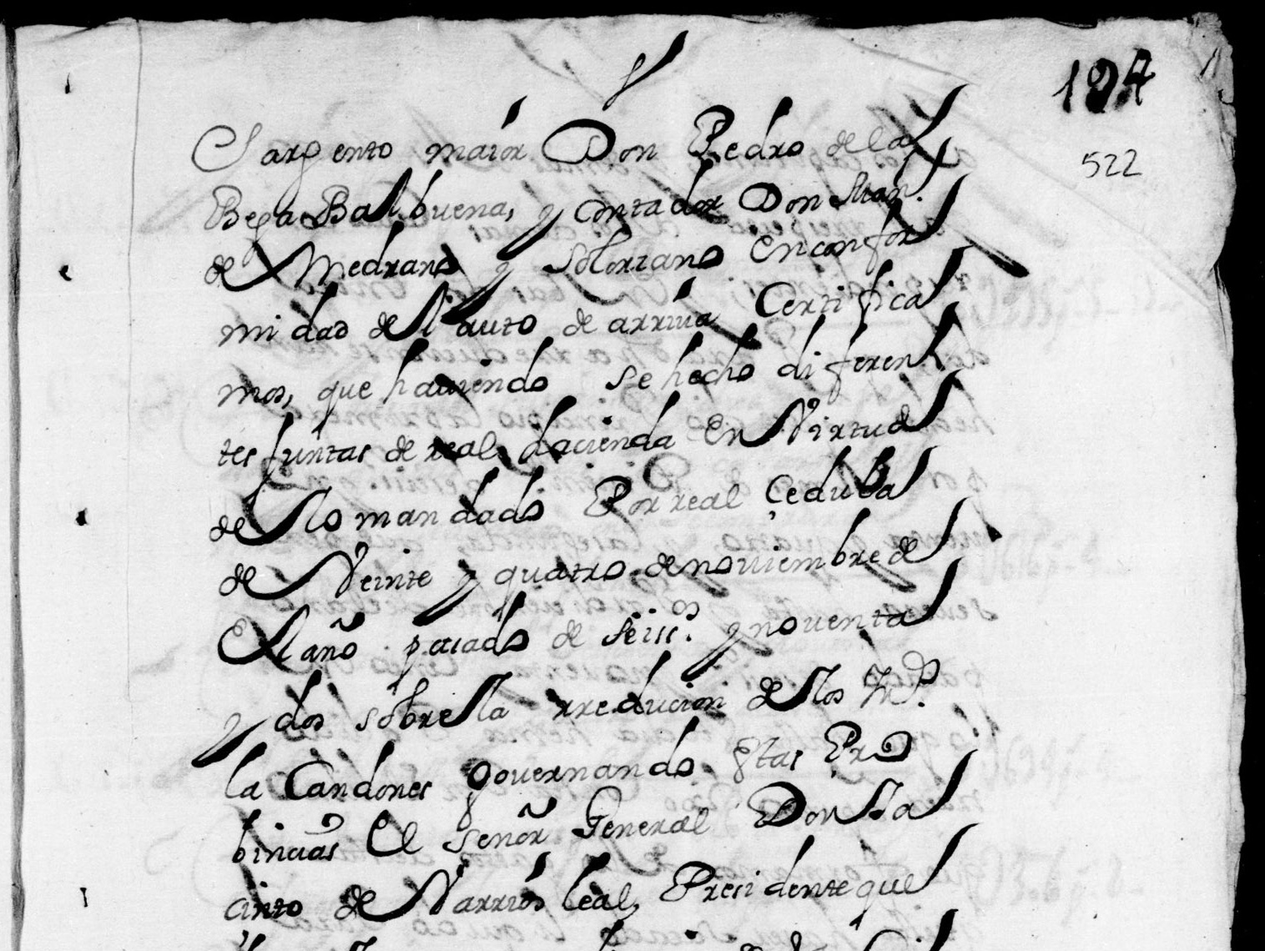lacandon: (224, 740, 432, 802)
